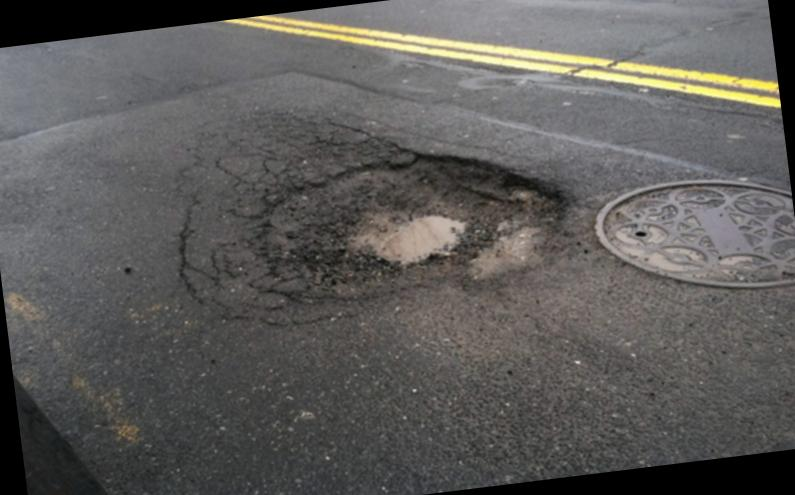pothole: (0, 0, 795, 495), (154, 80, 606, 386)
